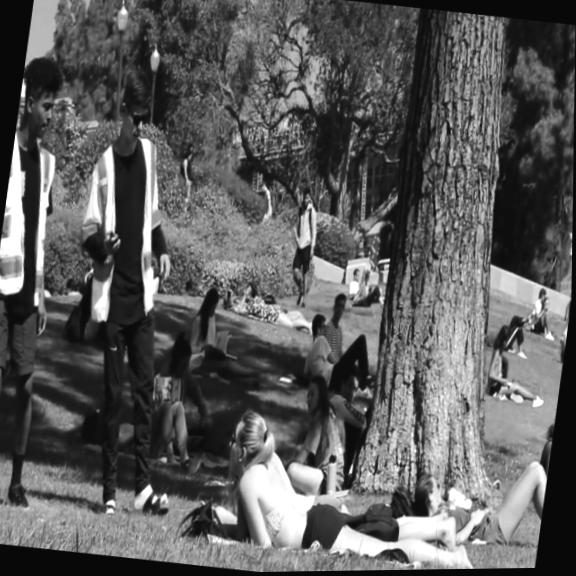safety_vest: (69, 133, 179, 330), (0, 129, 63, 307)
